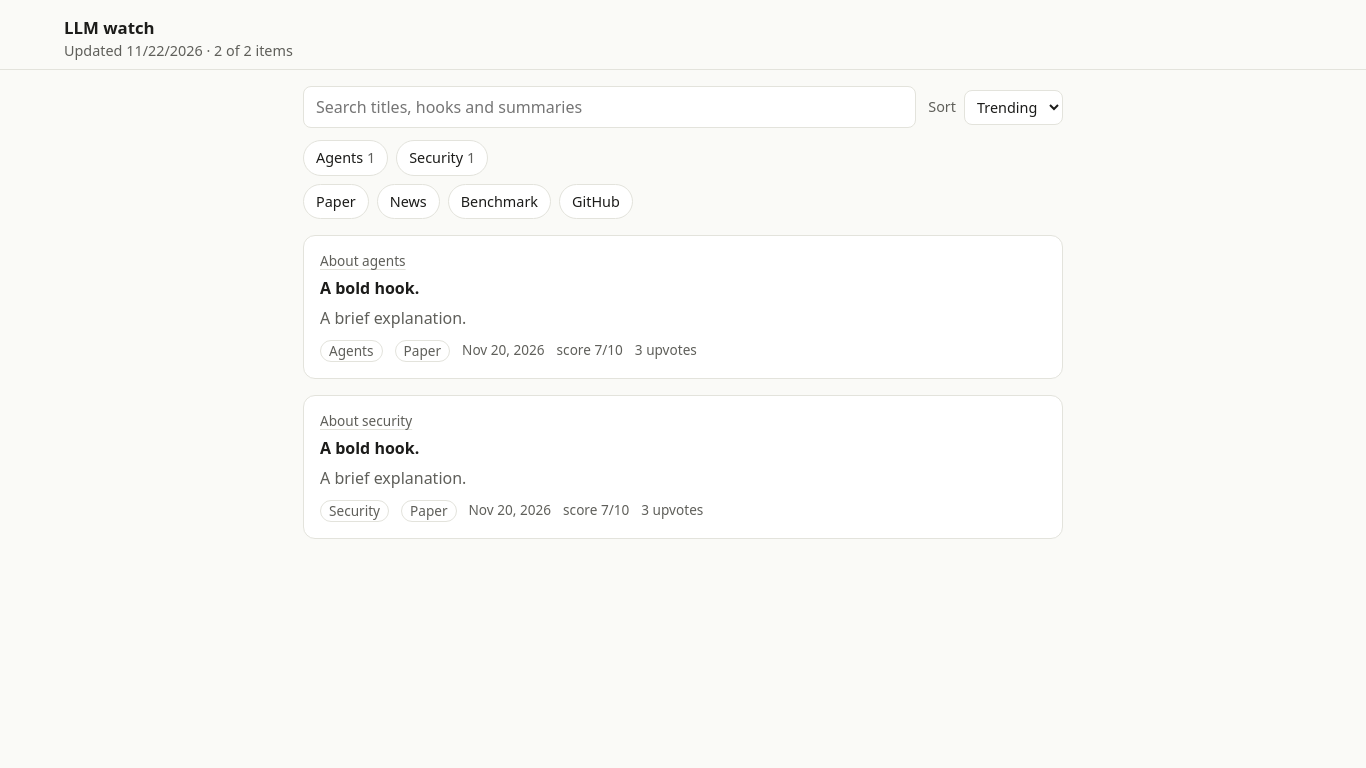
Test: clicking a category chip filters the list and records it in the url
expect the link "About agents" is shown: met, box [320,251,406,270]
Click the button "Security 1" at (442, 158), box [396,140,488,176]
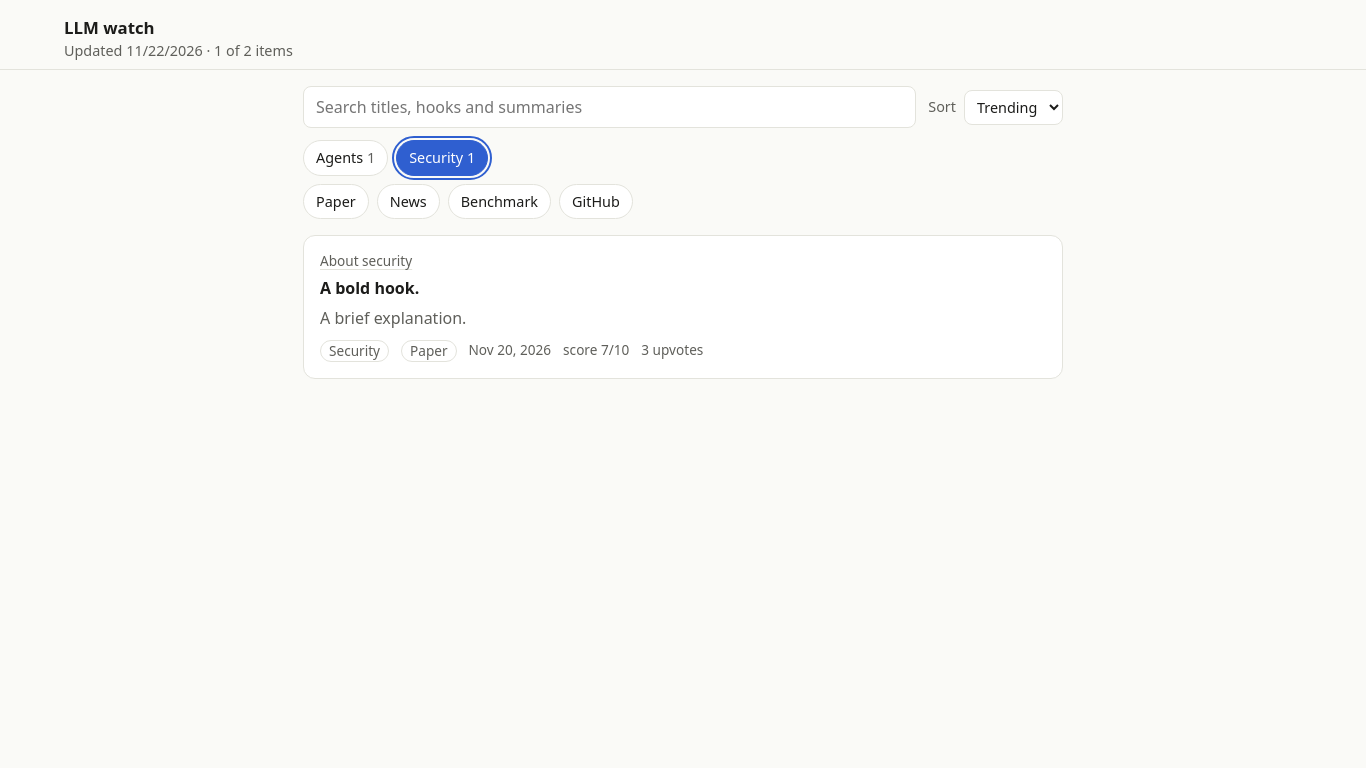
expect the link "About security" is shown: met, box [320,251,412,270]
expect the link "About agents" is gone: met
